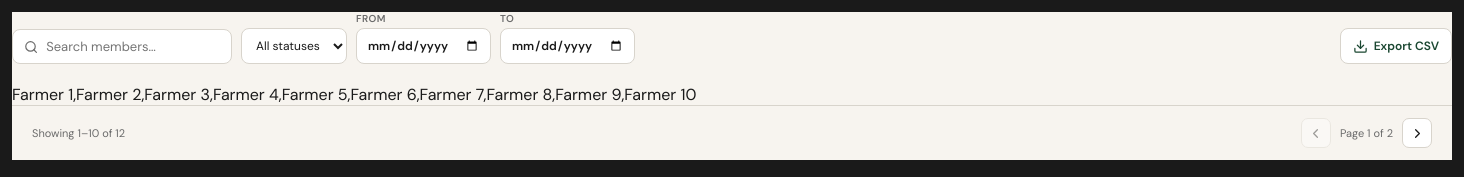
Test: DashboardTableTools › filters by search, status, and inclusive dates
Step 1. Type "Farmer" into the search field labelled "Search members" → (133, 46), box [46, 38, 220, 55]
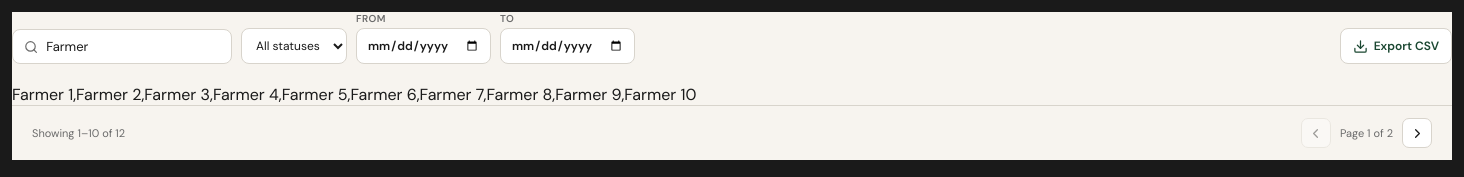
Step 2. Select "Inactive" in the dropdown named "Filter Members by status" → (294, 46), box [241, 28, 347, 64]
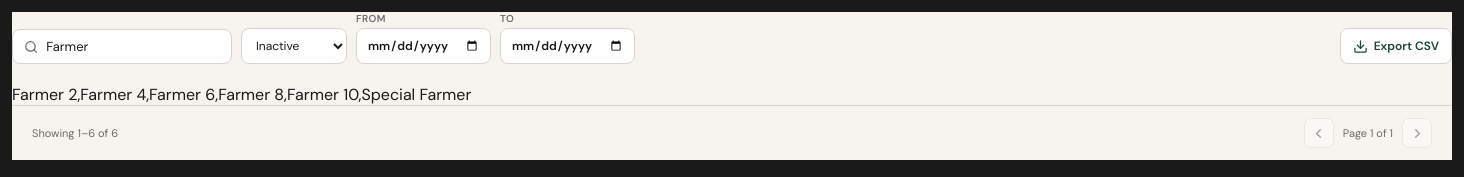
Step 3. Type "2026-07-12" into the date field labelled "From" → (424, 46), box [356, 28, 491, 64]
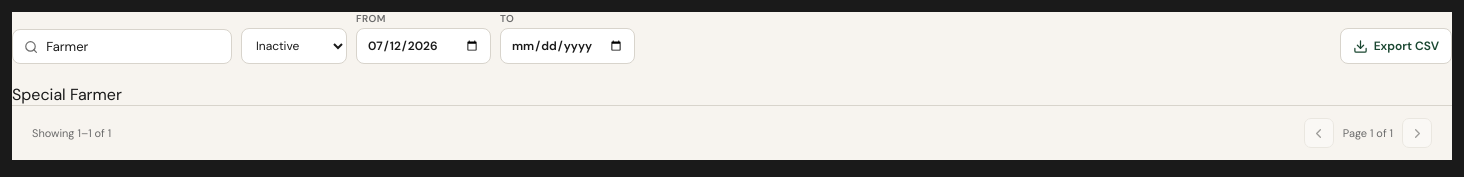
Result: the text with test id "rows" reads "Special Farmer" at [12, 84, 122, 105]
